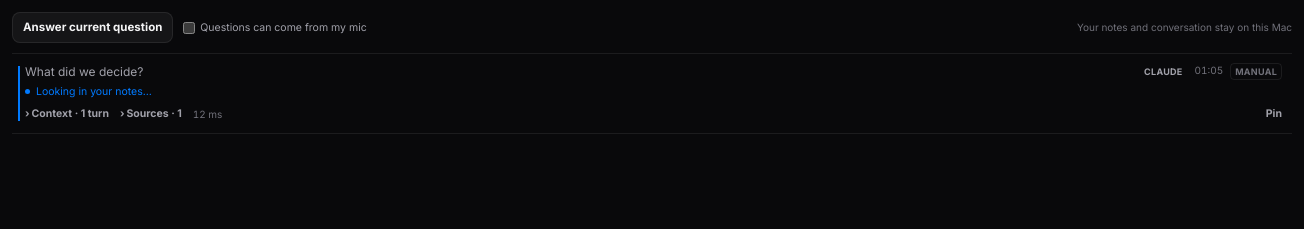
copilot passages render safely › renders **bold** markers as <strong> without raw HTML
This screenshot has width=1304, height=229.
Click the button "› Sources · 1" at (151, 114), box [120,105,182,123]
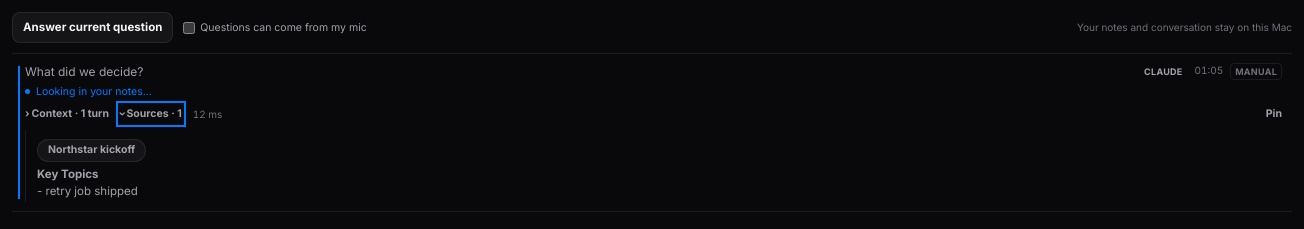
Expected: the text "Key Topics" is shown, [37,166,98,180]
